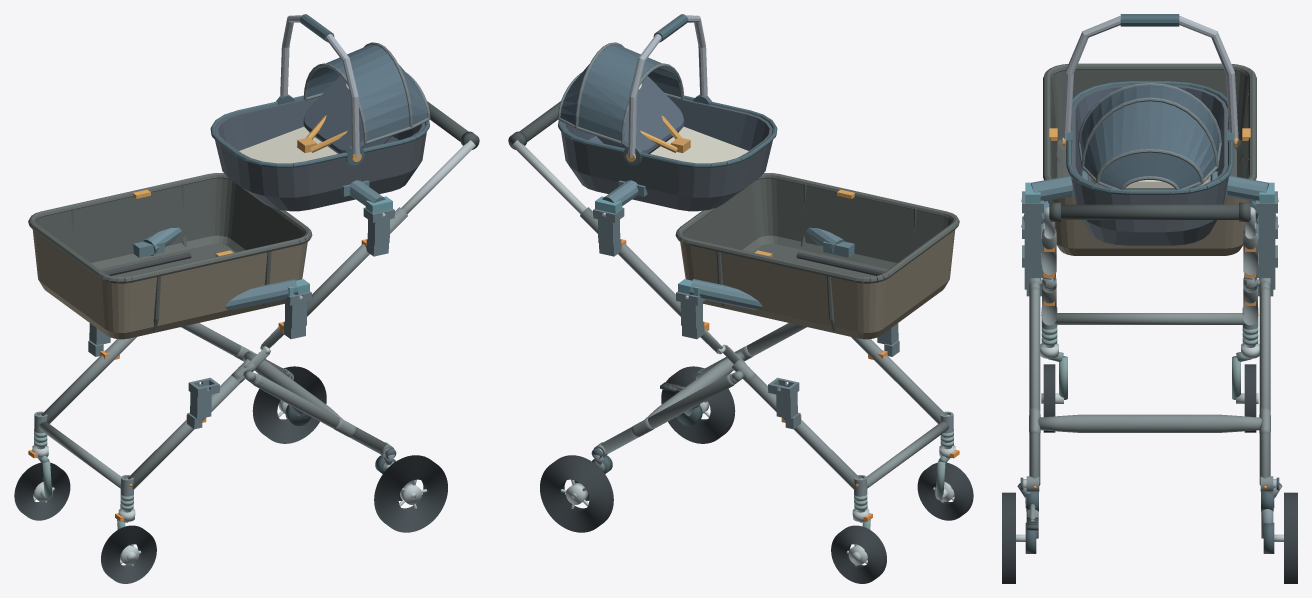
The model's file is D16_w550_state1_wheel_S.glb.
3 renders of one model, left to right at view 1: azimuth 30°, elevation 25°; view 2: azimuth 150°, elevation 25°; view 3: azimuth 270°, elevation 25°, orthographic. The views are drawn at different scales.
Parts seen in each view (by area): view 1: D16_Lower, D16_Upper, RL_tire.002, RR_tire.002, FL_tire.002, D16_Lower_Mount_M, FR_tire.002, V46_rear_leg_-1.003, main_lower_-1.003, main_lower_1.003, main_upper_-1.003, Universal_Cabin_Receiver_L_-1 (+8 smaller); view 2: D16_Lower, D16_Upper, RR_tire.002, RL_tire.002, FR_tire.002, D16_Lower_Mount_M, FL_tire.002, V46_rear_leg_1.003, main_lower_1.003, main_lower_-1.003, main_upper_1.003, Universal_Cabin_Receiver_L_1 (+8 smaller); view 3: D16_Upper, D16_Lower, V46_rearbar.003, round_handle.002, front_fixed_round_tube.002, D16_Upper_Mount_H, V46_rear_leg_1.003, V46_rear_leg_-1.003, RL_tire.002, RR_tire.002, Universal_Cabin_Receiver_H_1, Universal_Cabin_Receiver_H_-1 (+8 smaller).
Part boxes in pixels (left/top/right/bottom): D16_Lower: left=28, top=173, right=312, bottom=339; D16_Upper: left=210, top=14, right=430, bottom=211; RL_tire.002: left=374, top=455, right=447, bottom=532; RR_tire.002: left=252, top=366, right=326, bottom=443; FL_tire.002: left=101, top=525, right=156, bottom=583; D16_Lower_Mount_M: left=133, top=227, right=309, bottom=309; FR_tire.002: left=14, top=462, right=70, bottom=520; V46_rear_leg_-1.003: left=252, top=374, right=386, bottom=454; main_lower_-1.003: left=128, top=375, right=243, bottom=489; main_lower_1.003: left=41, top=337, right=136, bottom=423; main_upper_-1.003: left=284, top=207, right=407, bottom=321; Universal_Cabin_Receiver_L_-1: left=187, top=377, right=219, bottom=429; D16_Lower: left=675, top=173, right=959, bottom=339; D16_Upper: left=557, top=14, right=777, bottom=211; RR_tire.002: left=540, top=455, right=613, bottom=532; RL_tire.002: left=661, top=366, right=735, bottom=443; FR_tire.002: left=831, top=525, right=886, bottom=583; D16_Lower_Mount_M: left=678, top=227, right=854, bottom=309; FL_tire.002: left=917, top=462, right=973, bottom=520; V46_rear_leg_1.003: left=601, top=374, right=735, bottom=454; main_lower_1.003: left=744, top=375, right=859, bottom=489; main_lower_-1.003: left=851, top=337, right=946, bottom=423; main_upper_1.003: left=580, top=207, right=703, bottom=321; Universal_Cabin_Receiver_L_1: left=768, top=377, right=800, bottom=429; D16_Upper: left=1061, top=14, right=1238, bottom=245; D16_Lower: left=1043, top=63, right=1256, bottom=255; V46_rearbar.003: left=1038, top=414, right=1261, bottom=432; round_handle.002: left=1049, top=204, right=1250, bottom=219; front_fixed_round_tube.002: left=1055, top=313, right=1244, bottom=324; D16_Upper_Mount_H: left=1021, top=171, right=1278, bottom=203; V46_rear_leg_1.003: left=1259, top=287, right=1270, bottom=485; V46_rear_leg_-1.003: left=1029, top=287, right=1040, bottom=485; RL_tire.002: left=1002, top=492, right=1015, bottom=583; RR_tire.002: left=1284, top=492, right=1297, bottom=583; Universal_Cabin_Receiver_H_1: left=1256, top=191, right=1277, bottom=252; Universal_Cabin_Receiver_H_-1: left=1022, top=191, right=1043, bottom=252.
Bounding box in the file's own units: 1.11 × 1.32 × 0.6471.
